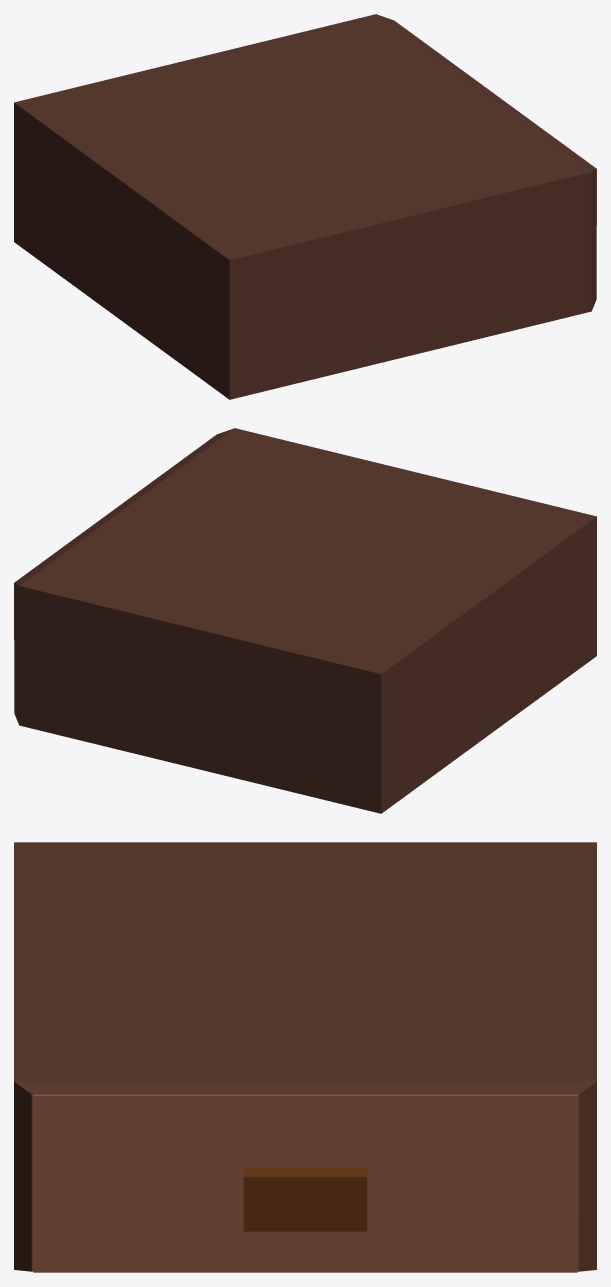
Rendered from Tiroir.fbx.
3 views of the same model, one above another, from view 1: azimuth 30°, elevation 25°; view 2: azimuth 150°, elevation 25°; view 3: azimuth 270°, elevation 25° (orthographic). The views are drawn at different scales.
Visible parts, largest first — view 1: Boite du tiroir; view 2: Boite du tiroir; view 3: Boite du tiroir, Tiroir.
Part boxes in pixels (x1,y1,x2,y2): Boite du tiroir: (14, 14, 596, 399); Boite du tiroir: (14, 428, 596, 813); Boite du tiroir: (14, 842, 596, 1271); Tiroir: (33, 1094, 577, 1272).
Size of the model in its own units: 217 by 71.42 by 200.
